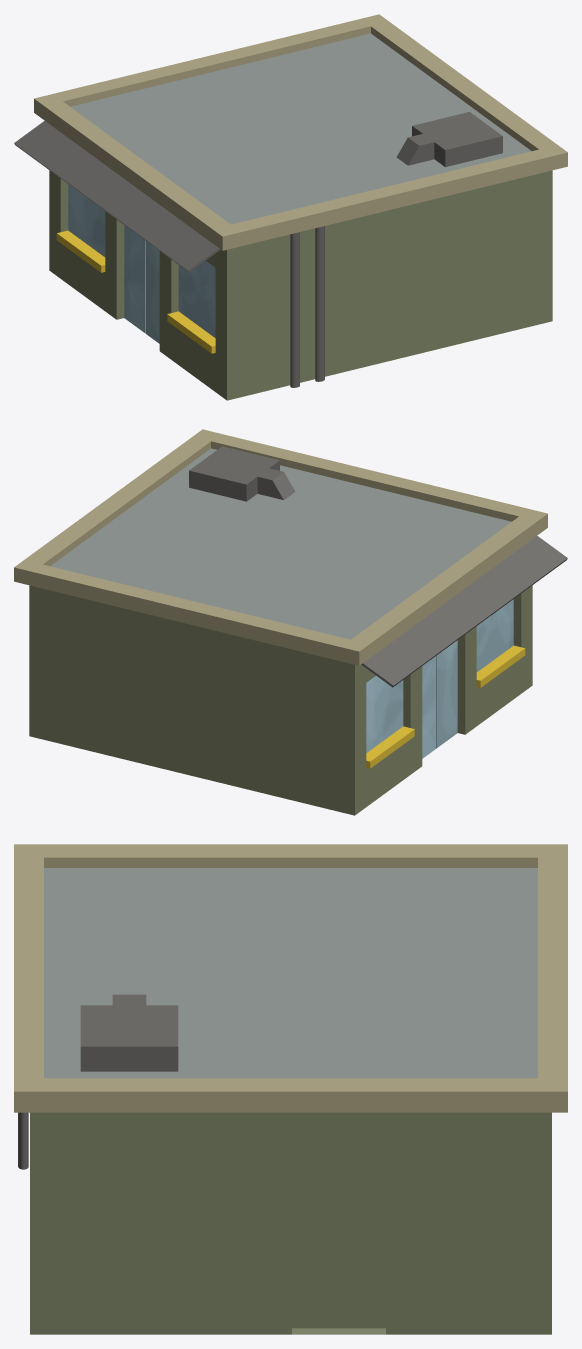
File: TPCS_Store_003_V1.fbx
3 views of the same model, one above another, from view 1: azimuth 30°, elevation 25°; view 2: azimuth 150°, elevation 25°; view 3: azimuth 270°, elevation 25° (orthographic). The views are drawn at different scales.
Visible parts, largest first — view 1: strore_1.014; view 2: strore_1.014; view 3: strore_1.014.
Boxes of the visible parts, x1=… form: strore_1.014: x1=14, y1=14, x2=567, y2=400; strore_1.014: x1=14, y1=429, x2=567, y2=815; strore_1.014: x1=14, y1=844, x2=567, y2=1334.
Bounding box in the file's own units: 686 × 318 × 602.
